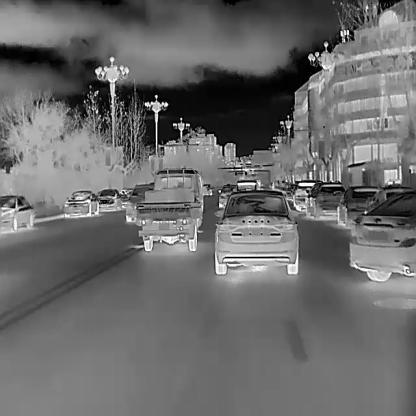car: (214, 189, 298, 275), (350, 187, 415, 282), (138, 167, 203, 251), (336, 185, 378, 227), (304, 180, 345, 220), (0, 193, 34, 231), (125, 184, 155, 222), (63, 189, 99, 218), (292, 179, 318, 210), (95, 188, 121, 210), (218, 184, 238, 208), (235, 179, 261, 191), (118, 187, 134, 206), (202, 183, 213, 195)
